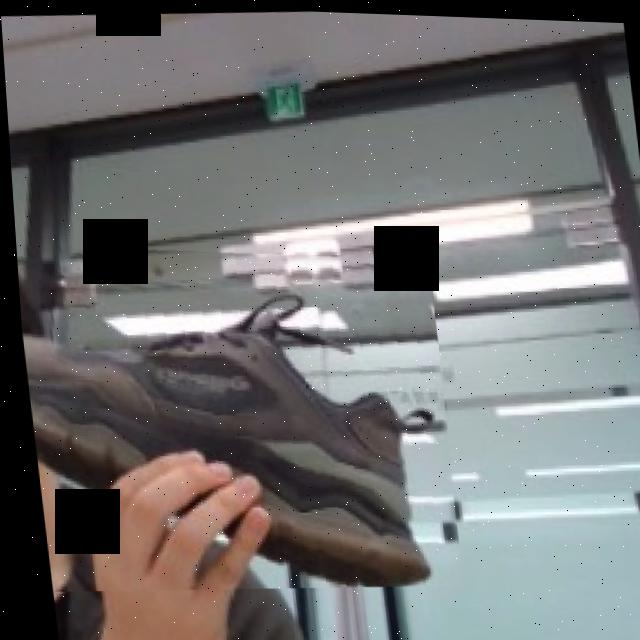shoe: (12, 223, 461, 604)
